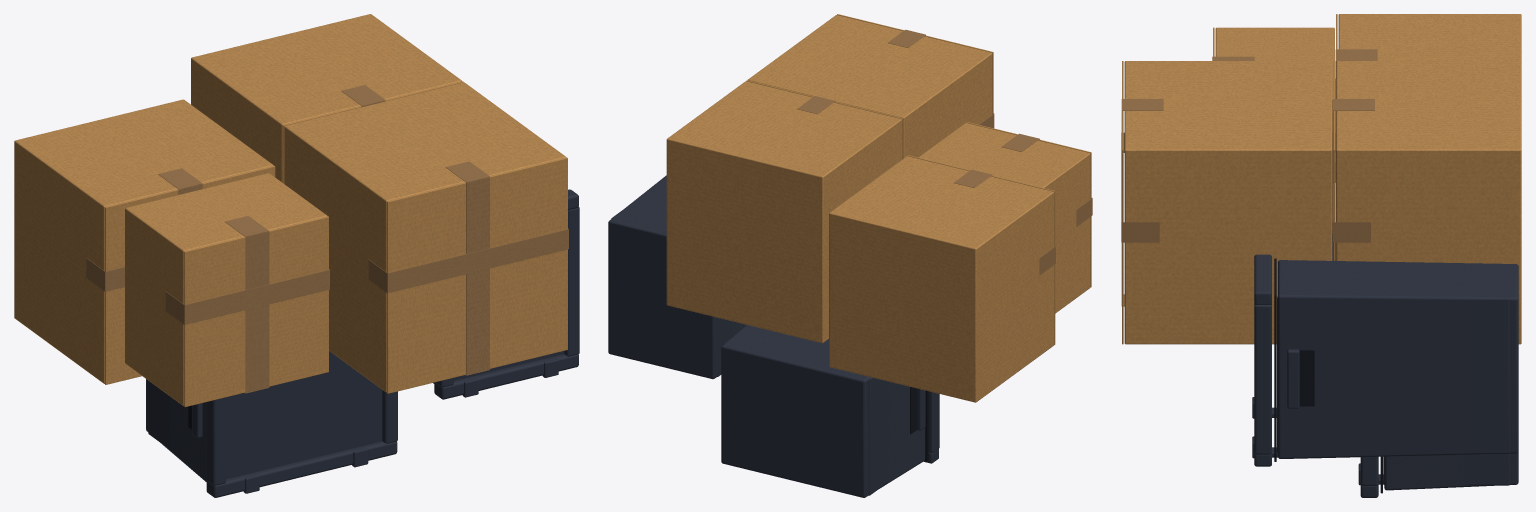
File: packing-boxes.glb
The picture shows the model from 3 angles, left to right: view 1: azimuth 30°, elevation 25°; view 2: azimuth 150°, elevation 25°; view 3: azimuth 270°, elevation 25°; orthographic projection. The views are drawn at different scales.
Parts seen in each view (by area): view 1: Kraft_Cardboard, Graphite, Packing_Tape; view 2: Kraft_Cardboard, Graphite, Packing_Tape, Mechanics; view 3: Kraft_Cardboard, Graphite, Packing_Tape, Mechanics.
Part boxes in pixels (left/top/right/bottom): Kraft_Cardboard: left=14, top=14, right=567, bottom=407; Graphite: left=146, top=189, right=579, bottom=497; Packing_Tape: left=86, top=85, right=568, bottom=393; Kraft_Cardboard: left=666, top=14, right=1091, bottom=402; Graphite: left=608, top=175, right=939, bottom=497; Packing_Tape: left=797, top=29, right=1092, bottom=274; Mechanics: left=910, top=387, right=928, bottom=461; Kraft_Cardboard: left=1122, top=14, right=1521, bottom=344; Graphite: left=1252, top=234, right=1518, bottom=497; Packing_Tape: left=1121, top=49, right=1377, bottom=306; Mechanics: left=1274, top=258, right=1382, bottom=493.
Size of the model in its own units: 0.8233 by 0.6733 by 0.6474.
5 materials, 4 textured.
